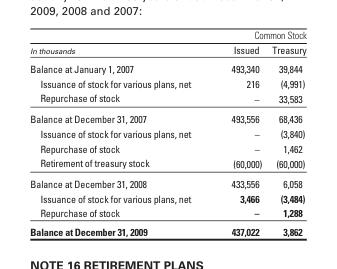table: (29, 28, 305, 237)
table column: (29, 28, 210, 237), (210, 28, 266, 237), (266, 28, 305, 237)
table column header: (29, 28, 305, 58)
table row: (29, 90, 305, 108), (29, 155, 305, 173), (29, 41, 305, 58), (29, 58, 305, 75), (29, 108, 305, 125), (29, 173, 305, 190), (29, 204, 305, 221), (29, 221, 305, 237), (29, 75, 305, 90), (29, 125, 305, 140), (29, 140, 305, 155), (29, 190, 305, 204), (29, 28, 305, 41)
table spanning cell: (29, 28, 210, 58), (210, 28, 305, 41)
